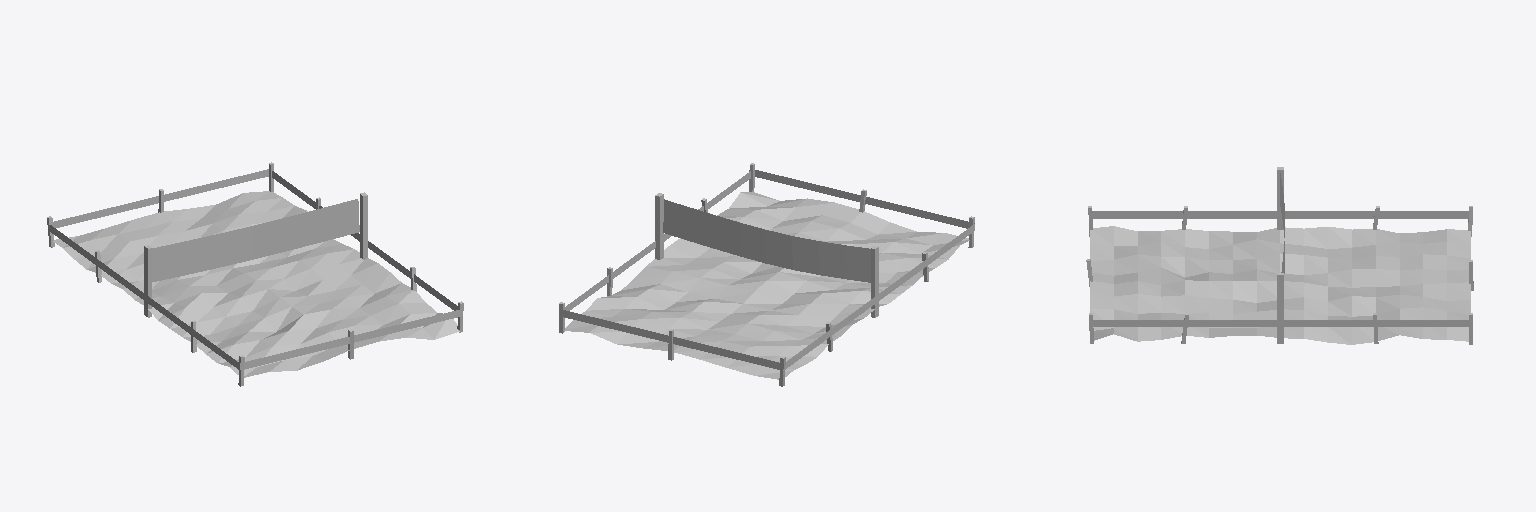
Rendered from court4.obj.
3 renders of one model, left to right at view 1: azimuth 30°, elevation 25°; view 2: azimuth 150°, elevation 25°; view 3: azimuth 270°, elevation 25°, orthographic.
Visible parts, largest first — view 1: Plane, Plane.001; view 2: Plane, Plane.001; view 3: Plane.
Part boxes in pixels (x1,y1,x2,y2): Plane: (47,162,463,386); Plane.001: (152,199,359,281); Plane: (559,163,974,386); Plane.001: (663,199,870,282); Plane: (1086,167,1473,344).
Bounding box in the file's own units: 20.45 × 6.09 × 30.46.